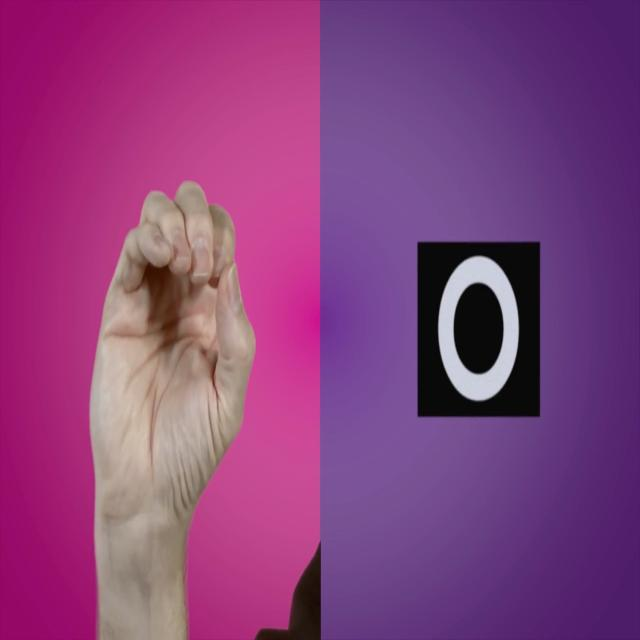O: (70, 174, 264, 640)
